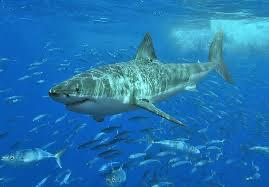Shark -Selachimorpha-: (43, 28, 235, 127)
